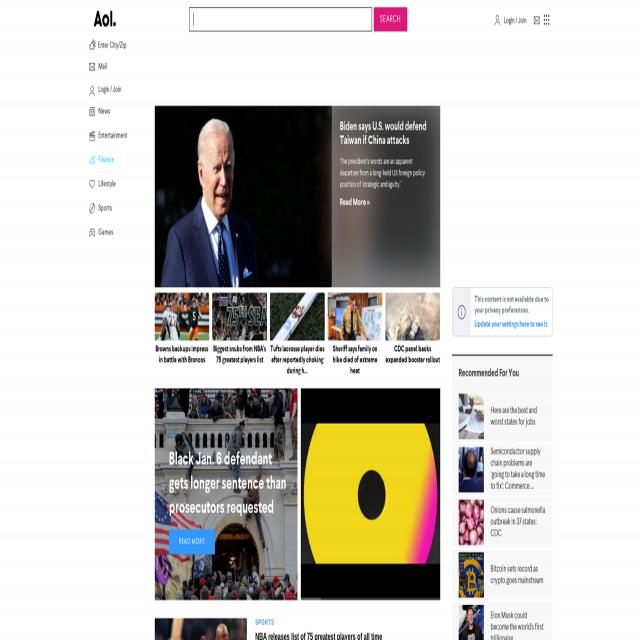button: (154, 105, 332, 288), (154, 388, 298, 600), (301, 389, 440, 601), (155, 293, 209, 341), (213, 293, 267, 341), (270, 293, 324, 341), (328, 293, 382, 341), (386, 293, 440, 341), (154, 617, 246, 640), (458, 552, 484, 598), (458, 394, 484, 439), (458, 447, 484, 492), (458, 500, 484, 545), (169, 529, 215, 554), (458, 604, 484, 640), (374, 7, 407, 32), (91, 6, 118, 35), (490, 10, 502, 32), (531, 12, 542, 29), (543, 12, 553, 30)
field: (189, 7, 372, 32)
